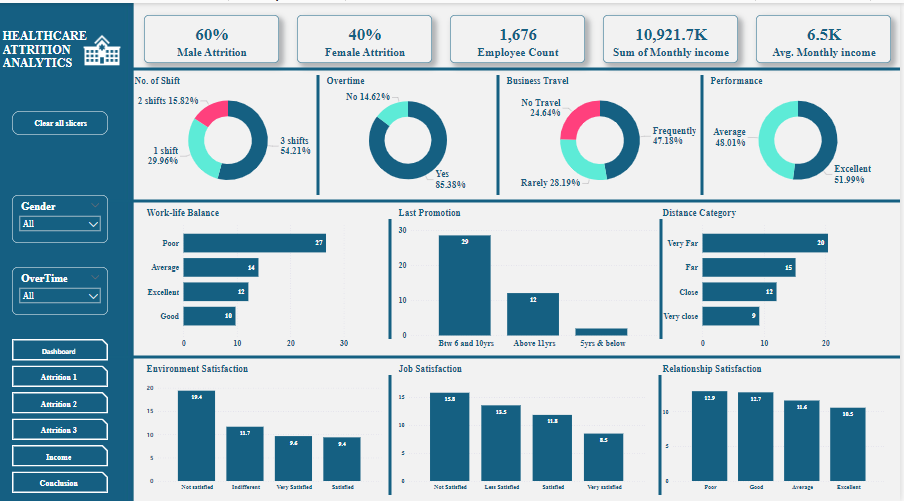

The page's visual inventory and layout, read from the dashboard file:
{"tool":"powerbi","page":{"name":"Dashboard","canvas":[1800,1000],"ordinal":0},"visuals":[{"type":"textbox","box":[0,48,264,120],"z":0},{"type":"image","box":[144,48,120,96],"z":1000},{"type":"pageNavigator","box":[24,672,192,312],"z":2000},{"type":"slicer","fields":{"Values":["Healthcare Attrition.Gender"]},"box":[24,384,192,96],"z":3000},{"type":"slicer","fields":{"Values":["Healthcare Attrition.OverTime"]},"box":[24,528,192,96],"z":5000},{"type":"card","fields":{"Values":["-Measure.%Female Attrition"]},"box":[594,24,270,96],"z":6000},{"type":"card","fields":{"Values":["-Measure.Sum of Monthly income"]},"box":[1206,24,270,96],"z":7000},{"type":"card","fields":{"Values":["-Measure.Count"]},"box":[900,24,270,96],"z":8000},{"type":"actionButton","box":[24,216,192,48],"z":9000},{"type":"card","fields":{"Values":["-Measure.Avg. Monthly income"]},"box":[1512,24,270,96],"z":10000},{"type":"card","fields":{"Values":["-Measure.MaleAttritionRate"]},"box":[288,24,270,96],"z":11000},{"type":"clusteredBarChart","title":"Distance Category","fields":{"Y":["-Measure.Rate of Attrition"],"Category":["Healthcare Attrition.Distance Category"]},"box":[1320,408,456,288],"z":12000},{"type":"columnChart","title":"Relationship Satisfaction","fields":{"Category":["Healthcare Attrition.Relationship Satisfaction"],"Y":["-Measure.Rate of Attrition"]},"box":[1320,720,456,264],"z":13000},{"type":"clusteredBarChart","title":"Work-life Balance","fields":{"Category":["Healthcare Attrition.Work-life Balance"],"Y":["-Measure.Rate of Attrition"]},"box":[288,408,480,288],"z":14000},{"type":"columnChart","title":"Environment Satisfaction","fields":{"Category":["Healthcare Attrition.Environment_Satisfaction "],"Y":["-Measure.Rate of Attrition"]},"box":[288,720,480,264],"z":15000},{"type":"donutChart","title":"Business Travel","fields":{"Y":["-Measure.Rate of Attrition"],"Category":["Healthcare Attrition.BusinessTravel"]},"box":[1008,144,384,240],"z":16000},{"type":"donutChart","title":"Overtime","fields":{"Y":["-Measure.Rate of Attrition"],"Category":["Healthcare Attrition.OverTime"]},"box":[648,144,336,240],"z":17000},{"type":"columnChart","title":"Last Promotion","fields":{"Category":["Healthcare Attrition.Last_Promotion"],"Y":["-Measure.Rate of Attrition"]},"box":[792,408,528,288],"z":18000},{"type":"donutChart","title":"Performance","fields":{"Category":["Healthcare Attrition.Performance Rating"],"Y":["-Measure.Rate of Attrition"]},"box":[1416,144,360,240],"z":19000},{"type":"shape","box":[216,384,1584,24],"z":20000},{"type":"shape","box":[264,120,1536,24],"z":21000},{"type":"shape","box":[1392,144,24,240],"z":22000},{"type":"shape","box":[984,144,24,240],"z":23000},{"type":"shape","box":[624,144,24,240],"z":24000},{"type":"donutChart","title":"No. of Shift","fields":{"Category":["Healthcare Attrition.No. of Shift"],"Y":["-Measure.Rate of Attrition"]},"box":[264,144,384,240],"z":25000},{"type":"columnChart","title":"Job Satisfaction","fields":{"Category":["Healthcare Attrition.Job satisfaction"],"Y":["-Measure.Rate of Attrition"]},"box":[792,720,504,264],"z":26000},{"type":"shape","box":[769,432,24,240],"z":27000},{"type":"shape","box":[1297.1,432,48,240],"z":28000},{"type":"shape","box":[216,696,1584,24],"z":29000},{"type":"shape","box":[769,744,24,240],"z":30000},{"type":"shape","box":[1296,744,48,240],"z":31000}]}

Visuals, with their boxes in screenshot pixels (x1, y1, x2, y2), scaled from the page's 1800x1000 canvas onto the 904x501 screenshot:
textbox: {"x1": 0, "y1": 24, "x2": 133, "y2": 84}
image: {"x1": 72, "y1": 24, "x2": 133, "y2": 72}
pageNavigator: {"x1": 12, "y1": 337, "x2": 108, "y2": 493}
slicer - Healthcare Attrition.Gender: {"x1": 12, "y1": 192, "x2": 108, "y2": 240}
slicer - Healthcare Attrition.OverTime: {"x1": 12, "y1": 265, "x2": 108, "y2": 313}
card - -Measure.%Female Attrition: {"x1": 298, "y1": 12, "x2": 434, "y2": 60}
card - -Measure.Sum of Monthly income: {"x1": 606, "y1": 12, "x2": 741, "y2": 60}
card - -Measure.Count: {"x1": 452, "y1": 12, "x2": 588, "y2": 60}
actionButton: {"x1": 12, "y1": 108, "x2": 108, "y2": 132}
card - -Measure.Avg. Monthly income: {"x1": 759, "y1": 12, "x2": 895, "y2": 60}
card - -Measure.MaleAttritionRate: {"x1": 145, "y1": 12, "x2": 280, "y2": 60}
"Distance Category" clusteredBarChart: {"x1": 663, "y1": 204, "x2": 892, "y2": 349}
"Relationship Satisfaction" columnChart: {"x1": 663, "y1": 361, "x2": 892, "y2": 493}
"Work-life Balance" clusteredBarChart: {"x1": 145, "y1": 204, "x2": 386, "y2": 349}
"Environment Satisfaction" columnChart: {"x1": 145, "y1": 361, "x2": 386, "y2": 493}
"Business Travel" donutChart: {"x1": 506, "y1": 72, "x2": 699, "y2": 192}
"Overtime" donutChart: {"x1": 325, "y1": 72, "x2": 494, "y2": 192}
"Last Promotion" columnChart: {"x1": 398, "y1": 204, "x2": 663, "y2": 349}
"Performance" donutChart: {"x1": 711, "y1": 72, "x2": 892, "y2": 192}
shape: {"x1": 108, "y1": 192, "x2": 903, "y2": 204}
shape: {"x1": 133, "y1": 60, "x2": 903, "y2": 72}
shape: {"x1": 699, "y1": 72, "x2": 711, "y2": 192}
shape: {"x1": 494, "y1": 72, "x2": 506, "y2": 192}
shape: {"x1": 313, "y1": 72, "x2": 325, "y2": 192}
"No. of Shift" donutChart: {"x1": 133, "y1": 72, "x2": 325, "y2": 192}
"Job Satisfaction" columnChart: {"x1": 398, "y1": 361, "x2": 651, "y2": 493}
shape: {"x1": 386, "y1": 216, "x2": 398, "y2": 337}
shape: {"x1": 651, "y1": 216, "x2": 676, "y2": 337}
shape: {"x1": 108, "y1": 349, "x2": 903, "y2": 361}
shape: {"x1": 386, "y1": 373, "x2": 398, "y2": 493}
shape: {"x1": 651, "y1": 373, "x2": 675, "y2": 493}
